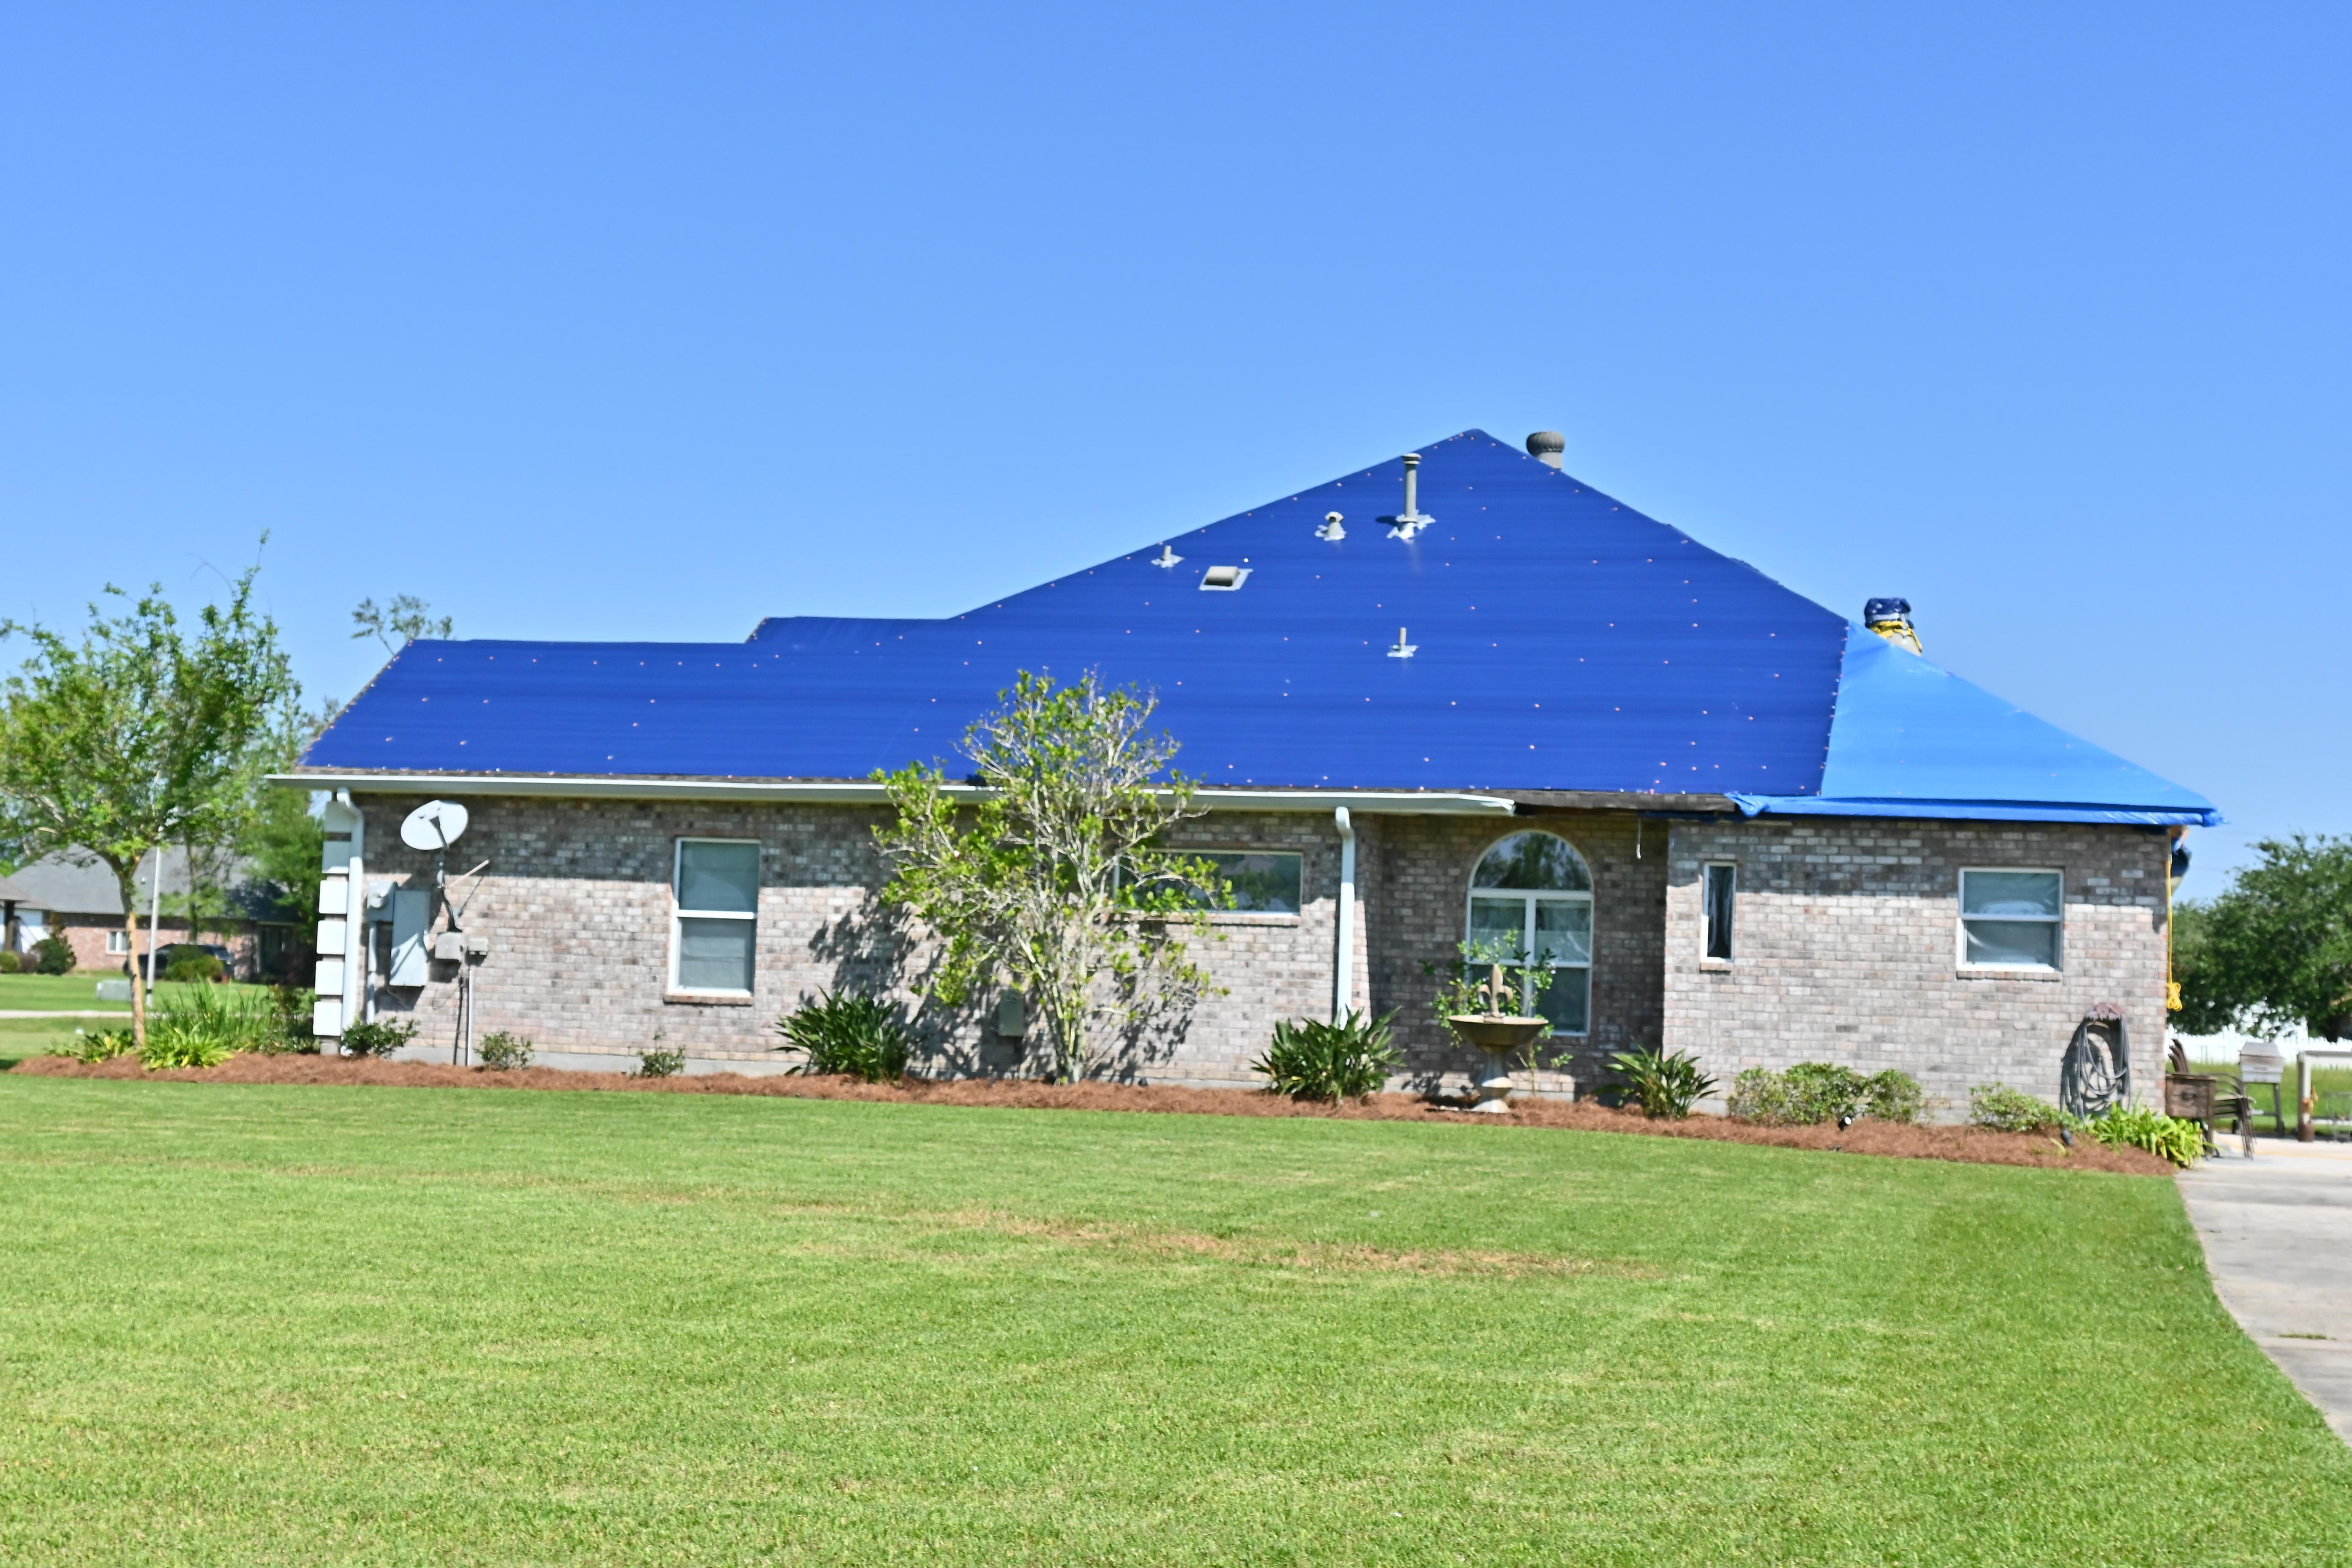minor: (301, 343, 2231, 1176)
